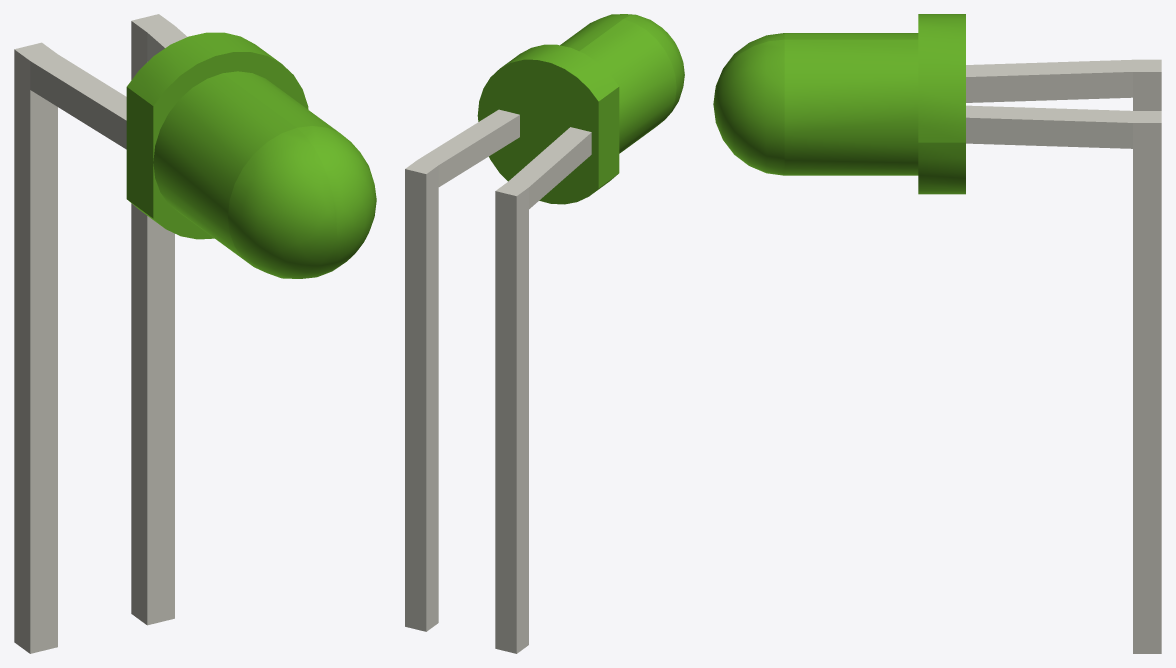
Rendered from kc-led_d3.0mm_horizontal_o3.81mm_z10.0mm.glb.
The picture shows the model from 3 angles, left to right: view 1: azimuth 30°, elevation 25°; view 2: azimuth 150°, elevation 25°; view 3: azimuth 270°, elevation 25°; orthographic projection. The views are drawn at different scales.
Visible parts, largest first — view 1: 0.6666666666666666_0.6666666666666666_0.5833333333333334_0.8, 0.16666666666666666_0.4166666666666667_0_0; view 2: 0.6666666666666666_0.6666666666666666_0.5833333333333334_0.8, 0.16666666666666666_0.4166666666666667_0_0; view 3: 0.16666666666666666_0.4166666666666667_0_0, 0.6666666666666666_0.6666666666666666_0.5833333333333334_0.8.
Boxes of the visible parts, x1=… form: 0.6666666666666666_0.6666666666666666_0.5833333333333334_0.8: x1=14, y1=14, x2=187, y2=653; 0.16666666666666666_0.4166666666666667_0_0: x1=126, y1=32, x2=376, y2=278; 0.6666666666666666_0.6666666666666666_0.5833333333333334_0.8: x1=405, y1=109, x2=591, y2=653; 0.16666666666666666_0.4166666666666667_0_0: x1=477, y1=14, x2=684, y2=204; 0.16666666666666666_0.4166666666666667_0_0: x1=713, y1=14, x2=965, y2=194; 0.6666666666666666_0.6666666666666666_0.5833333333333334_0.8: x1=966, y1=59, x2=1161, y2=653.
Bounding box in the file's own units: 0.347 × 1.39 × 0.941.
